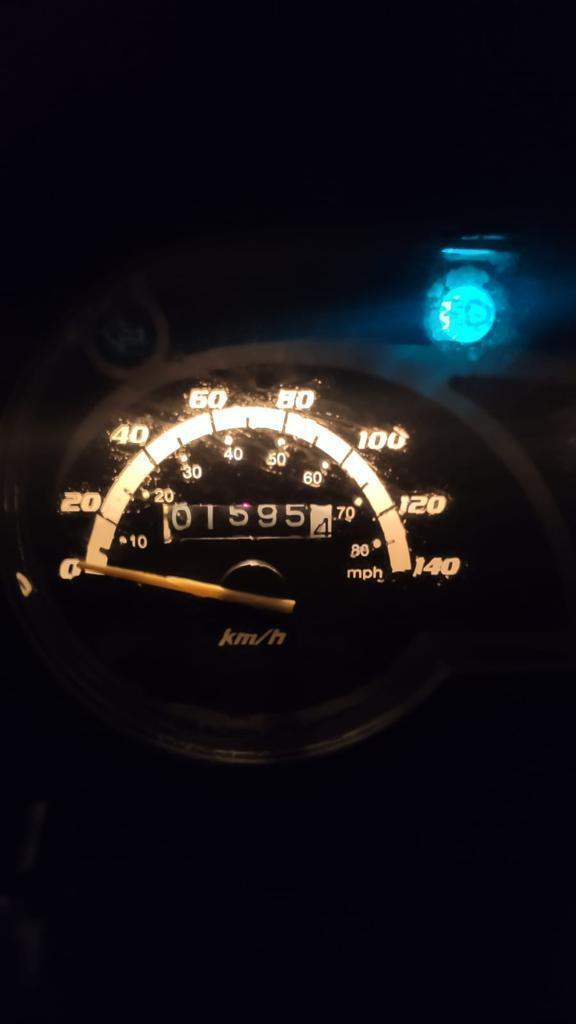0: (170, 503, 192, 532)
1: (204, 501, 217, 534)
4: (311, 514, 332, 540)
5: (284, 501, 306, 532), (226, 502, 250, 529)
9: (255, 503, 280, 530)
odometer: (155, 500, 336, 549)
